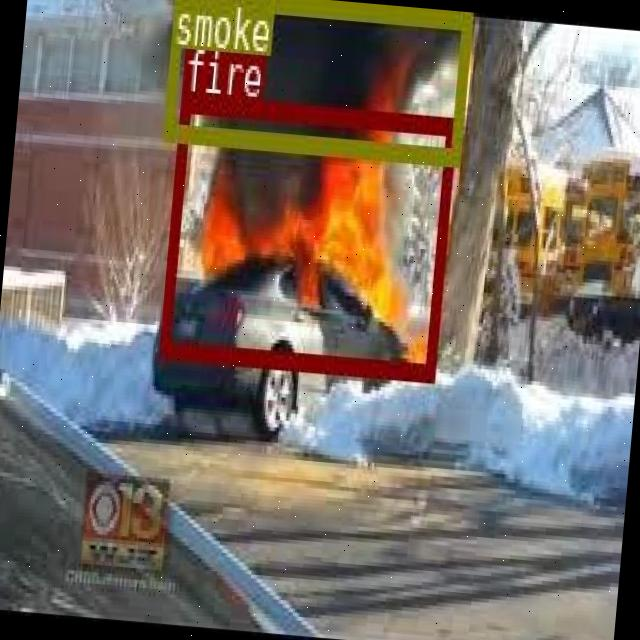fire: (157, 90, 456, 378)
smoke: (161, 0, 470, 160)
